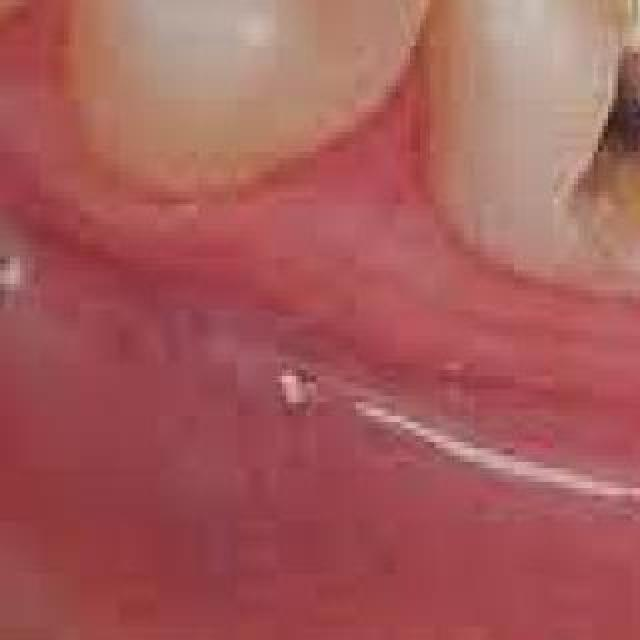cavities: (420, 0, 640, 298)
